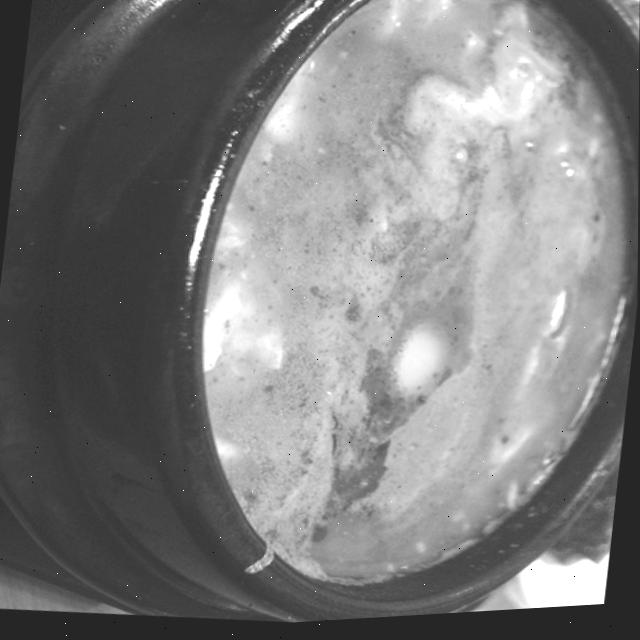寿司卷物: (172, 0, 640, 628)
